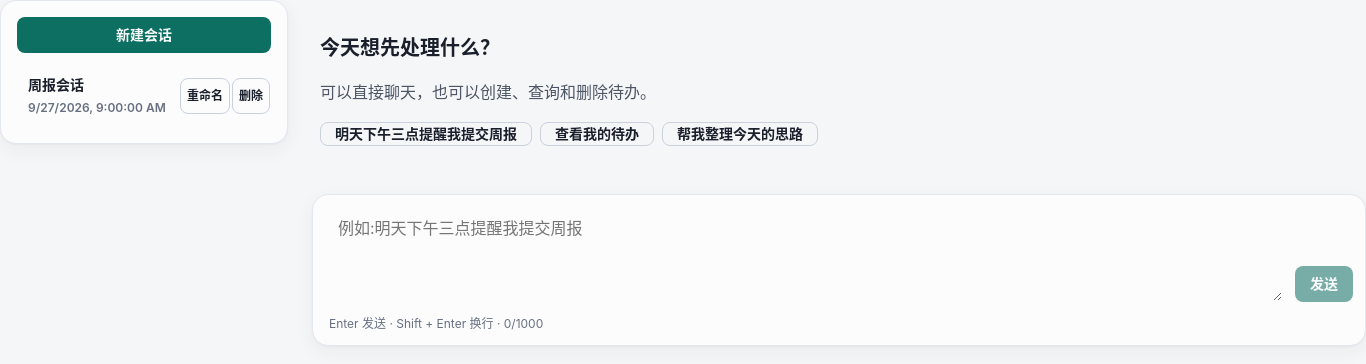
Test: renames a session through the inline editor
Expected: the text "周报会话" is shown, x1=28 y1=76 x2=84 y2=93
Click the button "重命名": (205, 96) x1=180 y1=78 x2=230 y2=114
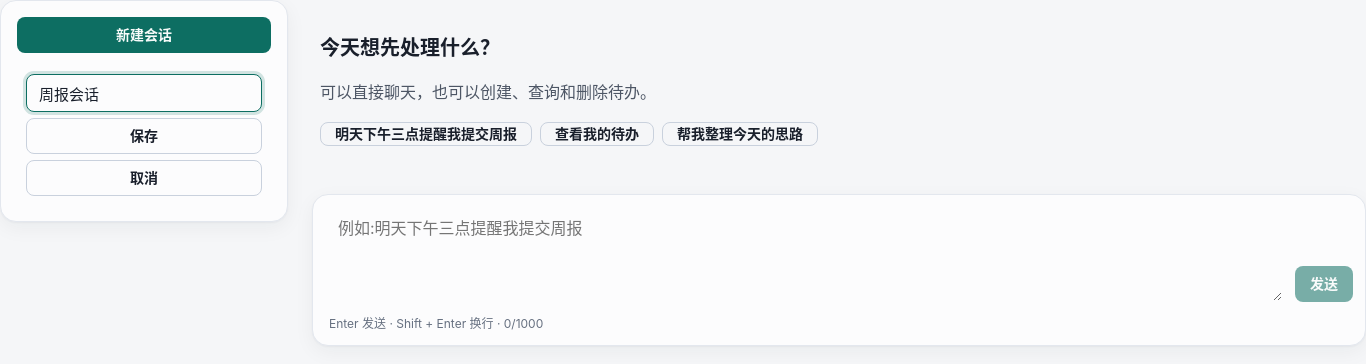
Replace the text in the field named "会话标题" with "冲刺计划": (144, 93) x1=26 y1=74 x2=262 y2=112
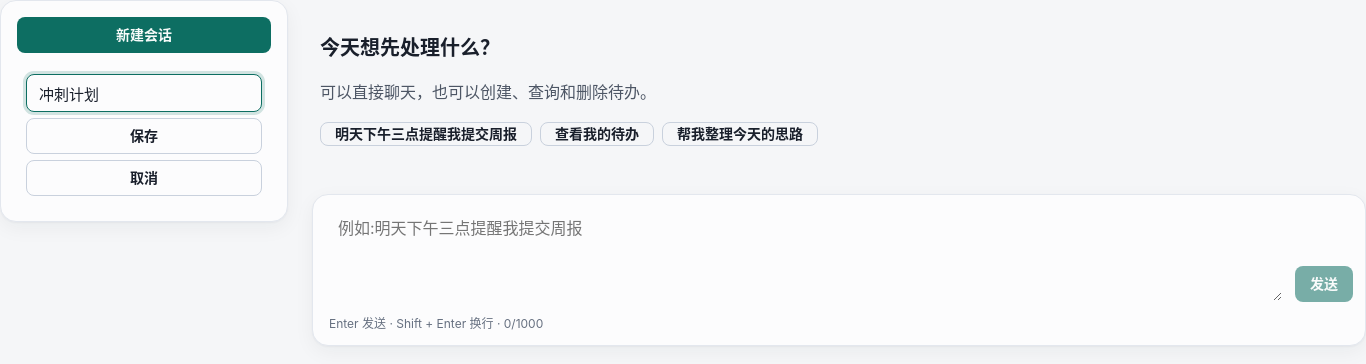
Click the button "保存": (144, 136) x1=26 y1=118 x2=262 y2=154
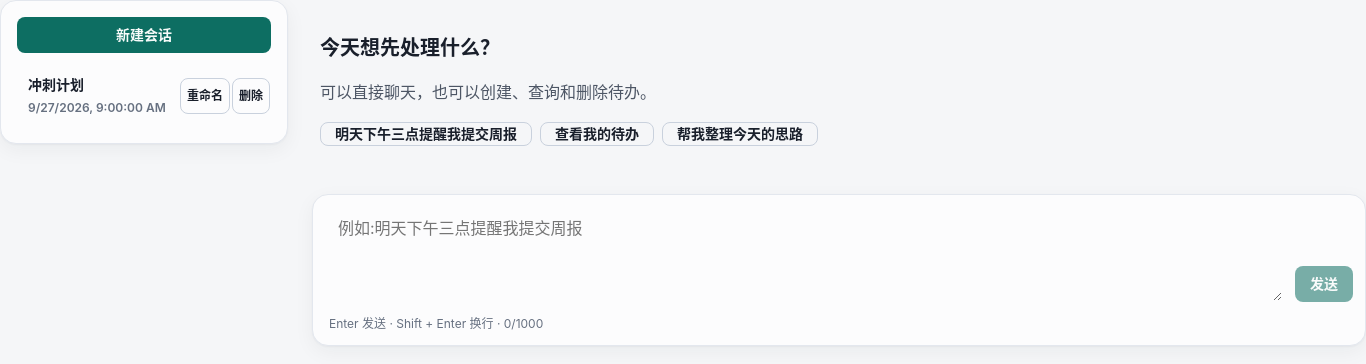
Now the text "冲刺计划" is shown, box x1=28 y1=76 x2=84 y2=93
